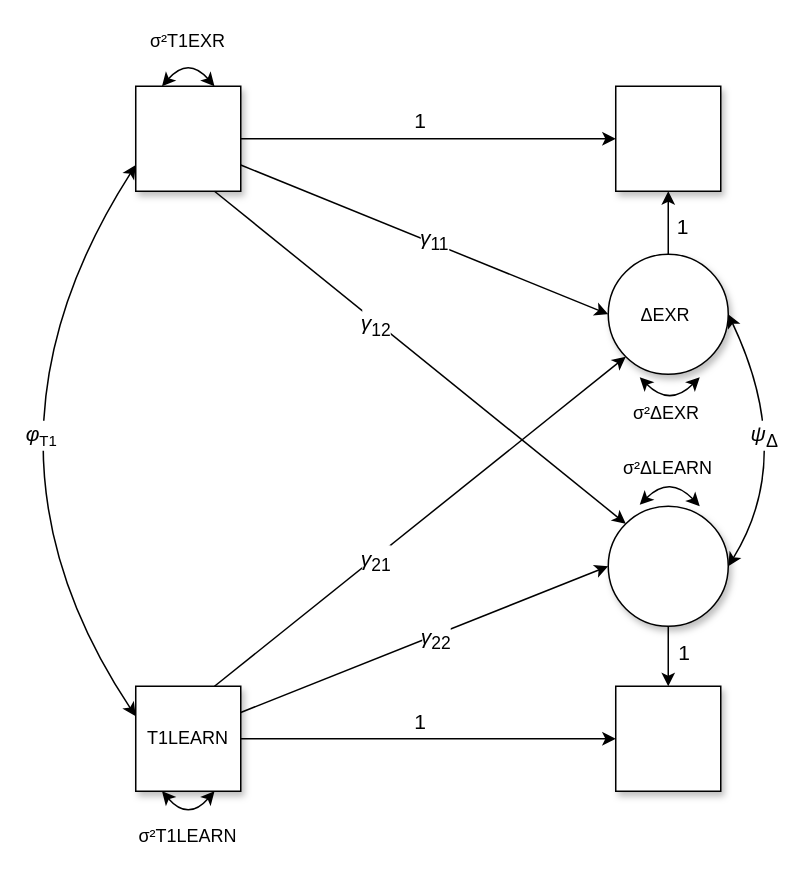
The diagram is 804 pixels wide and 876 high, and some of its shapes have lost their labels. Here are the shapes that lost their labels. From the top down, the centre of each, then its label:
point (189, 140): T1EXR
point (669, 140): T2EXR
point (669, 568): ΔLEARN
point (669, 740): T2LEARN
